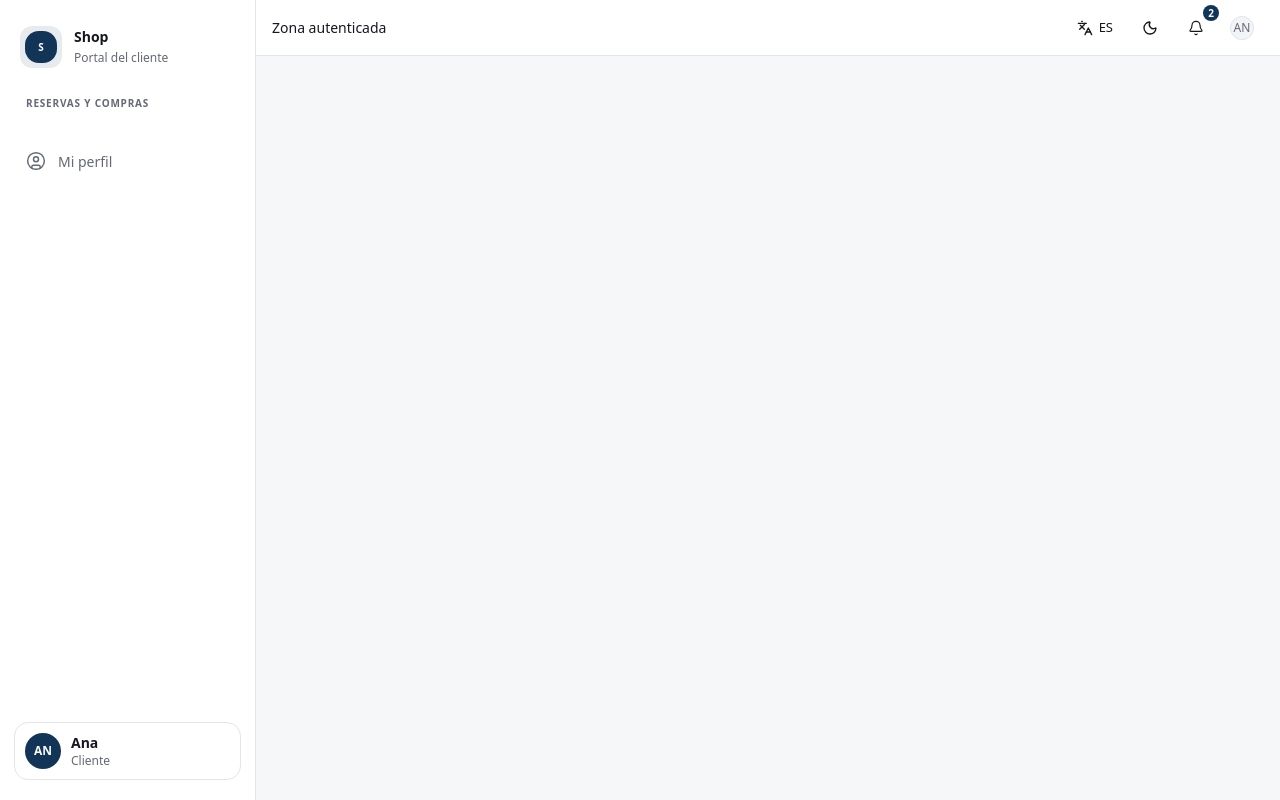
Test: reuses localized notification labels in es
Click the button "2" at (1196,28), box [1174,6,1218,50]
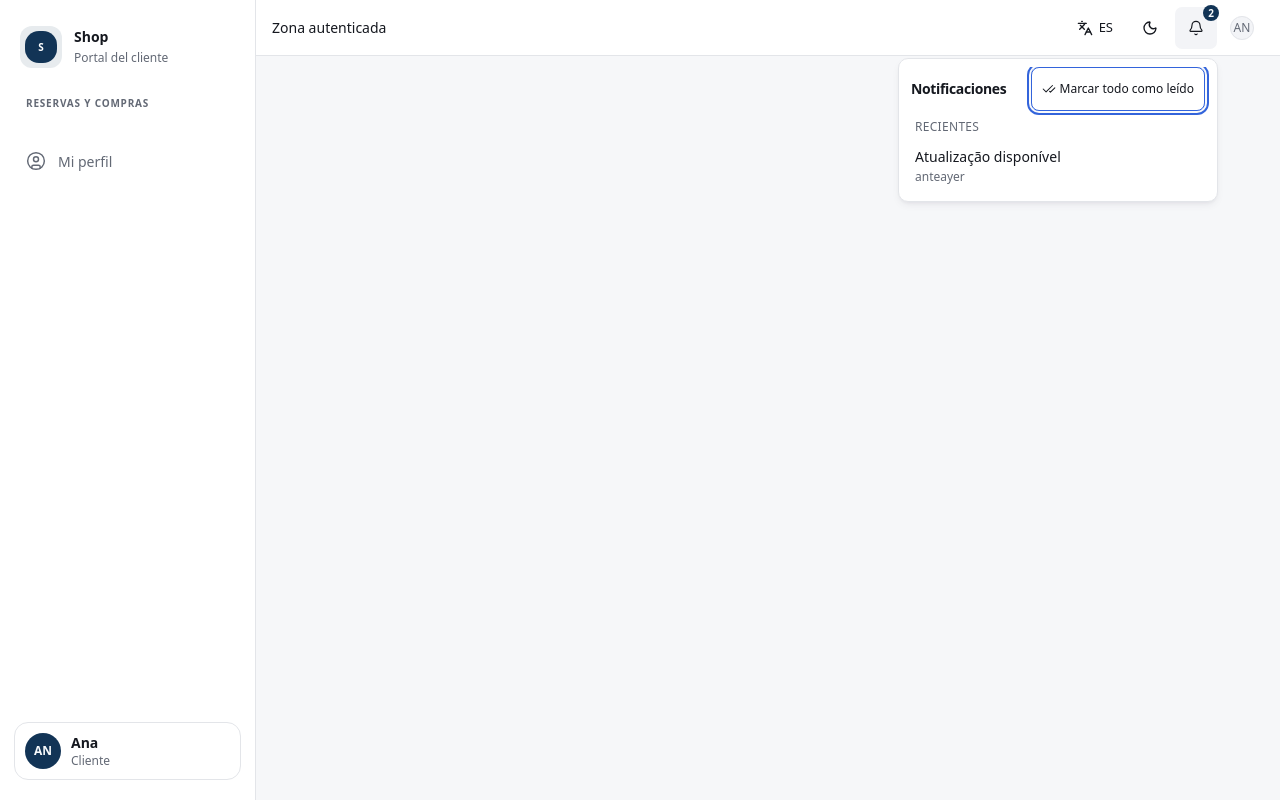
Expected: the button "Marcar todo como leído" is shown, [1030,67,1205,111]
